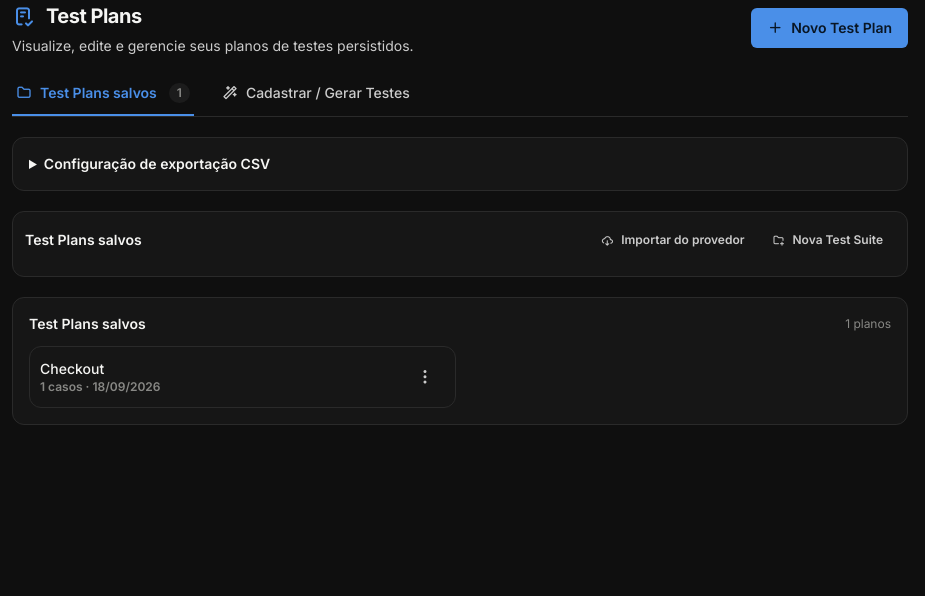
Test case: TestPlansView generated plan in the create tab › opens a plan from the edit action of its card
The image size is (925, 596).
Click the button named "Ações: Checkout" at (425,377), box [405,357,445,397]
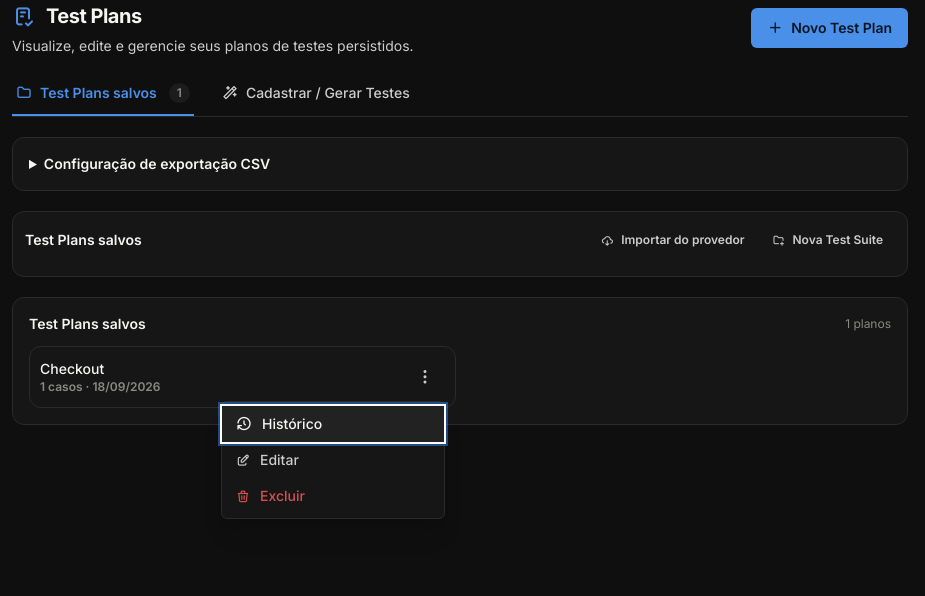
Click the button with aria-label "Editar Checkout" at (333,460), box [222,442,444,478]
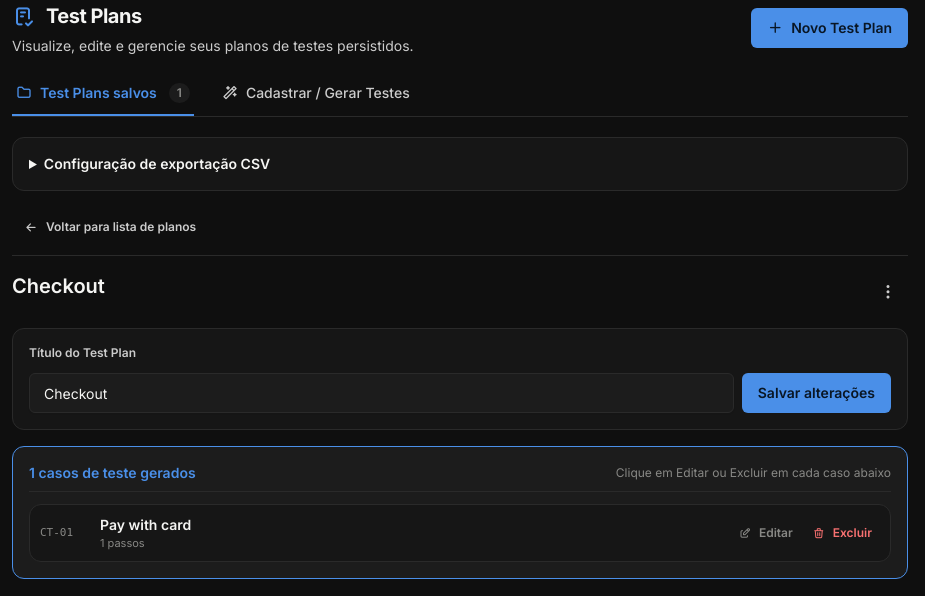
Result: the element with test id "saved-plan-detail" is shown at [12,211,908,579]
